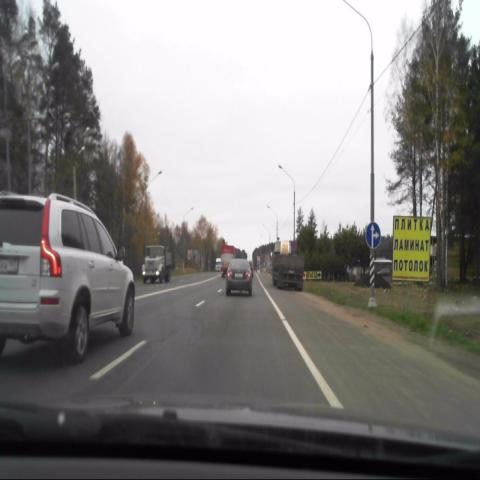4_1_4: (364, 221, 381, 251)
